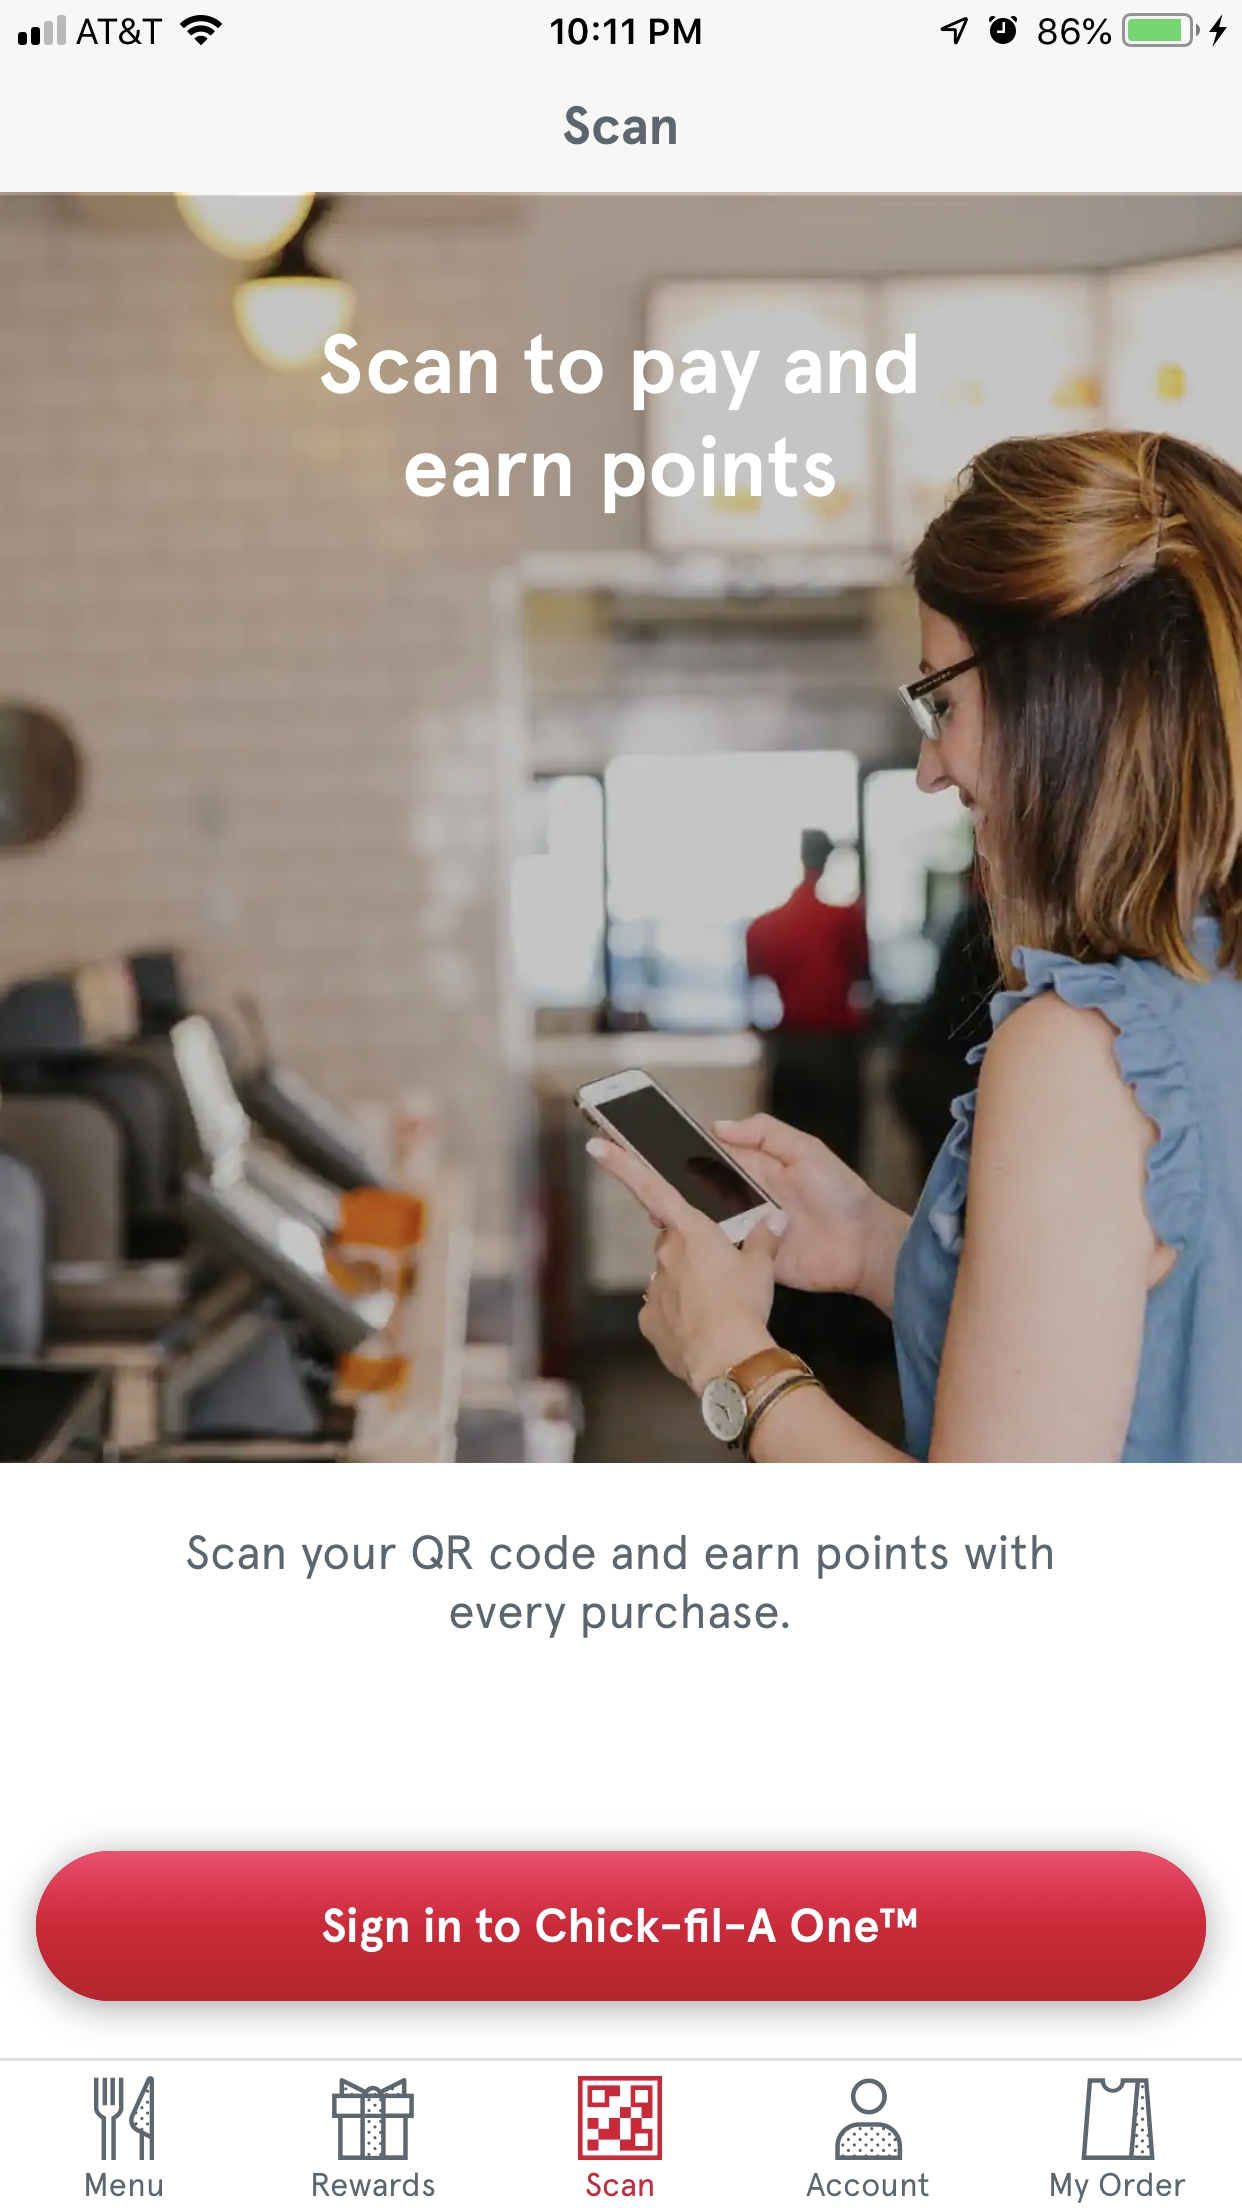Icon: (332, 2078, 416, 2161), (834, 2078, 904, 2159)
Image: (2, 193, 1242, 1463), (576, 2076, 663, 2161), (1081, 2078, 1156, 2161), (94, 2075, 156, 2161)
Text: (320, 334, 917, 516), (187, 1535, 1052, 1639), (564, 106, 676, 146), (1049, 2172, 1186, 2203), (805, 2172, 930, 2197), (312, 2172, 437, 2197), (86, 2172, 164, 2197), (585, 2172, 655, 2197)
TextButton: (36, 1852, 1207, 2002)
UpperTaskBar: (2, 2, 1242, 49)
